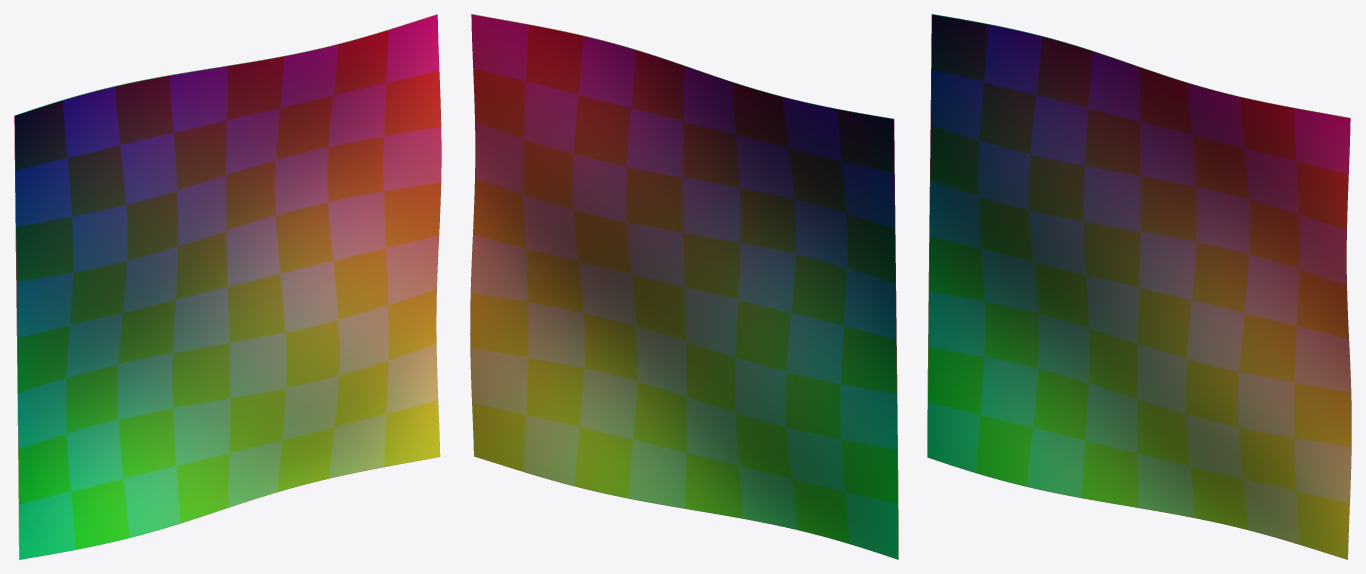
Rendered from Tile_+000_+012.obj.
3 renders of one model, left to right at view 1: azimuth 30°, elevation 25°; view 2: azimuth 150°, elevation 25°; view 3: azimuth 330°, elevation 25°, orthographic.
Bounding box in the file's own units: 100 × 100 × 6.12.
